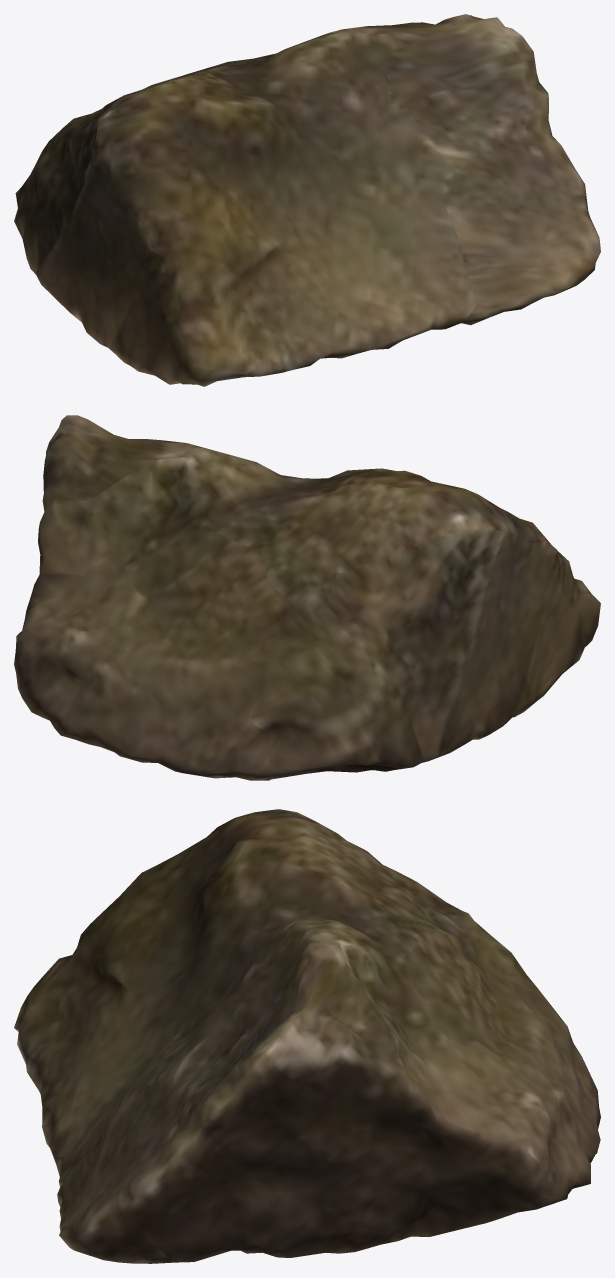
Rendered from rock-moss-b.glb.
3 renders of one model, top to bottom at view 1: azimuth 30°, elevation 25°; view 2: azimuth 150°, elevation 25°; view 3: azimuth 270°, elevation 25°, orthographic. The views are drawn at different scales.
Parts seen in each view (by area): view 1: rock_moss_set_01_rock03; view 2: rock_moss_set_01_rock03; view 3: rock_moss_set_01_rock03.
Boxes of the visible parts, bbox=[...] form: rock_moss_set_01_rock03: bbox=[14, 14, 600, 386]; rock_moss_set_01_rock03: bbox=[14, 415, 600, 780]; rock_moss_set_01_rock03: bbox=[14, 809, 600, 1263].
Size of the model in its own units: 2.11 by 1.1 by 2.08.
Materials: 1 (1 with a texture image).
